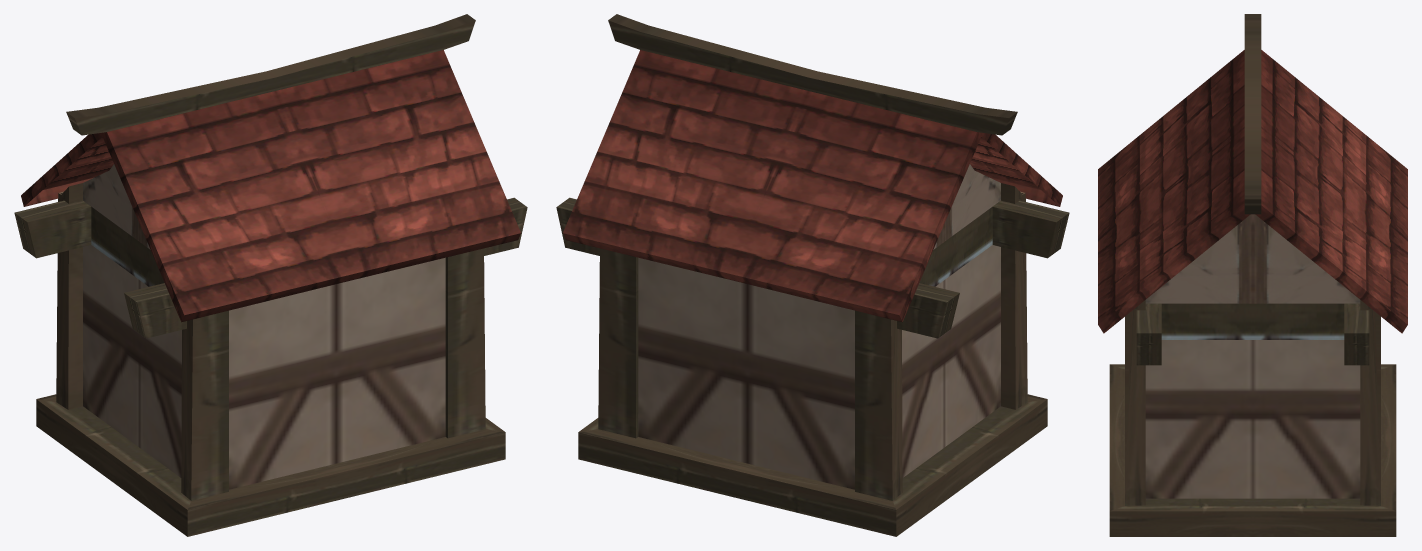
File: bfcs_fangzi_02.FBX
The picture shows the model from 3 angles, left to right: view 1: azimuth 30°, elevation 25°; view 2: azimuth 150°, elevation 25°; view 3: azimuth 270°, elevation 25°; orthographic projection. The views are drawn at different scales.
Visible parts, largest first — view 1: bfcs_fangzi_02; view 2: bfcs_fangzi_02; view 3: bfcs_fangzi_02.
Part boxes in pixels (x1,y1,x2,y2): bfcs_fangzi_02: (14, 14, 527, 536); bfcs_fangzi_02: (556, 14, 1069, 536); bfcs_fangzi_02: (1098, 14, 1407, 536).
Size of the model in its own units: 296 by 266 by 209.
